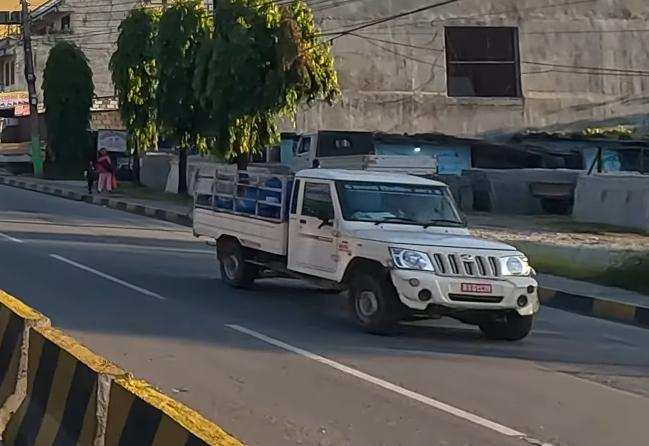transport_vehicle: (181, 146, 549, 348)
